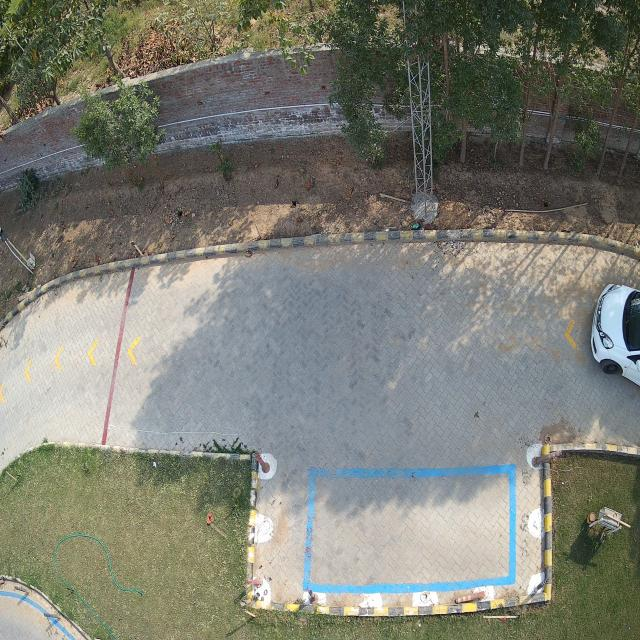car: (591, 283, 640, 385)
